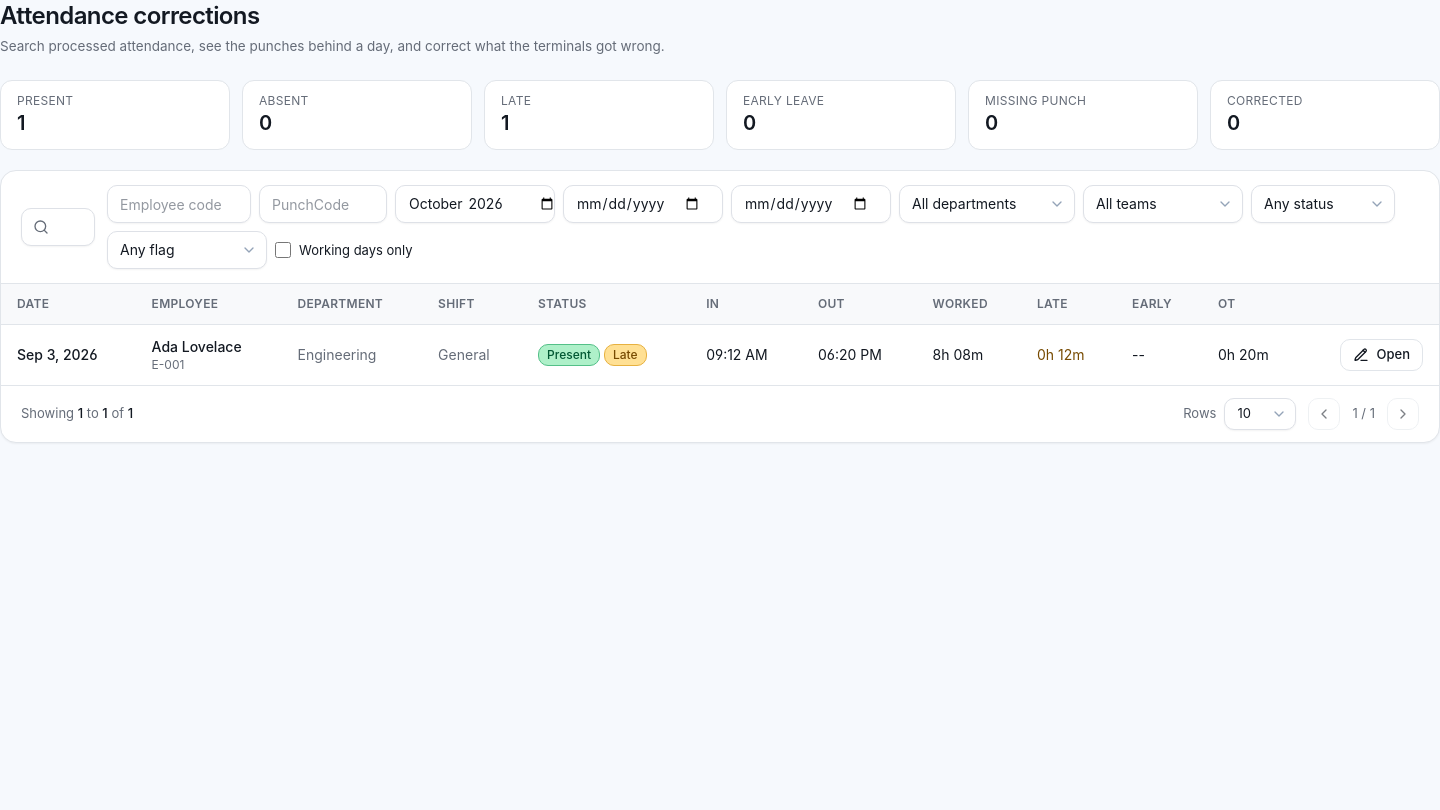
it: correction permissions › offers the correction form to somebody with attendance.manage
Click the button "Open".
click(1381, 355)  # box [1340,339,1423,371]
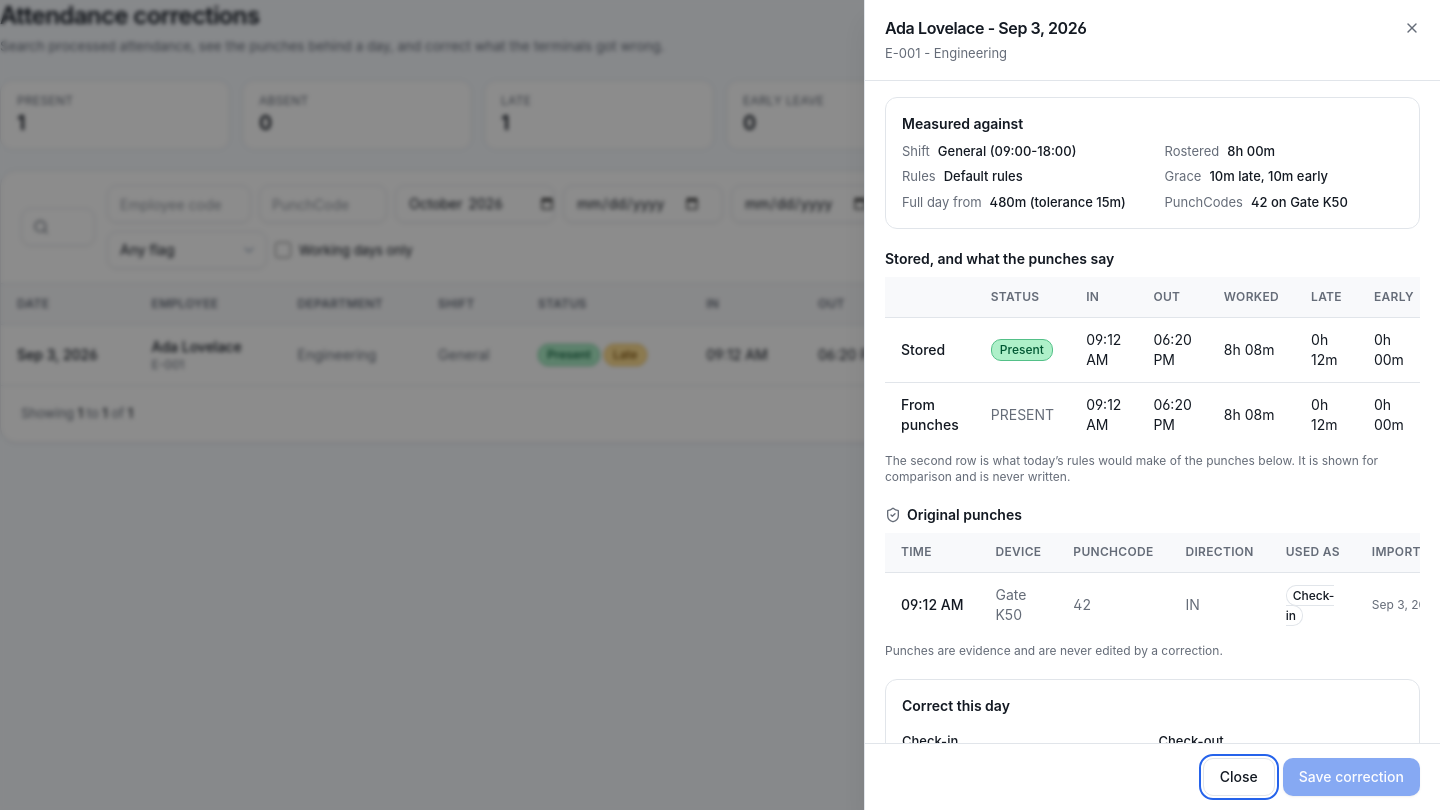
Expected: the heading "Correct this day" is shown, [902,697,1010,714]
Expected: the button "Save correction" is shown, [1283,758,1420,796]
